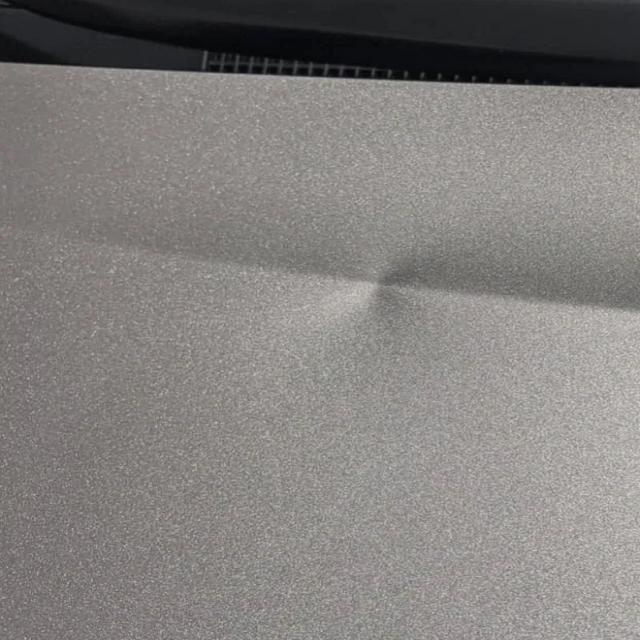dents: (321, 220, 497, 364)
